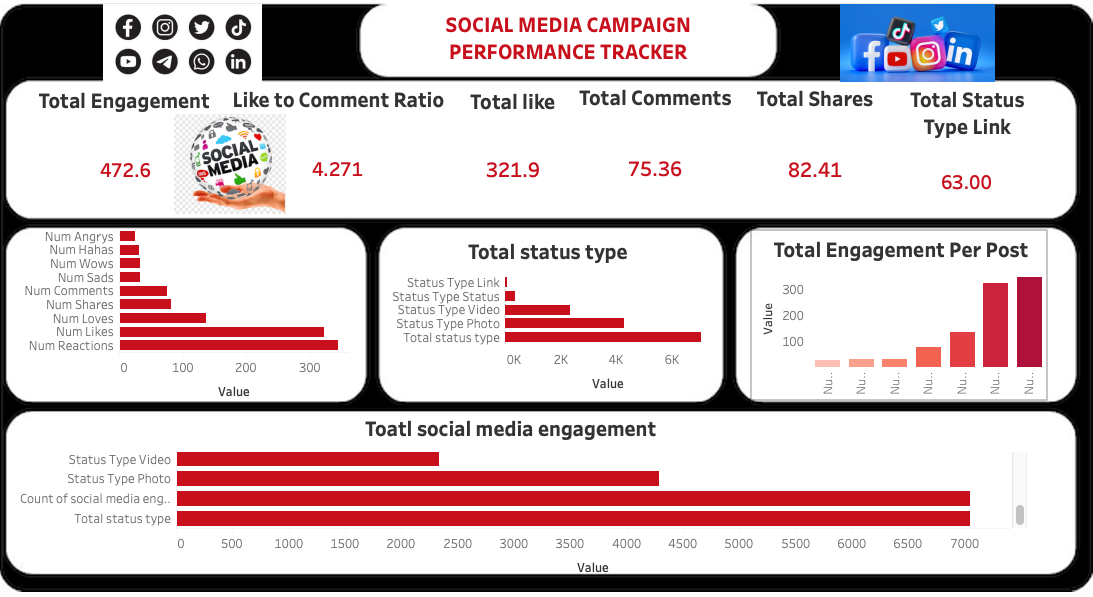

What the dashboard file says about the page in this screenshot:
{"tool":"tableau","page":{"name":"Dashboard 1","canvas":[1100,800],"ordinal":0},"visuals":[{"type":"image","param":"/Users/macbookdivytish/Desktop/Screenshot 2025-08-03 at 12.52.20 PM.png","box":[1.1,1,1093.4,701]},{"type":"image","param":"/Users/macbookdivytish/Desktop/Screenshot 2025-08-03 at 1.09.53 PM.png","box":[8,58,351,80]},{"type":"image","param":"/Users/macbookdivytish/Desktop/Screenshot 2025-08-03 at 1.10.11 PM.png","box":[743,58,351,78]},{"type":"text","box":[394,64,351,54]},{"type":"worksheet","title":"Total Comments","mark":"Automatic","box":[574,133,165,138]},{"type":"worksheet","title":"Total Shares","mark":"Automatic","box":[747,134,138,137]},{"type":"worksheet","title":"Like to Comment Ratio","mark":"Automatic","box":[224,135,231,133]},{"type":"worksheet","title":"Total Status Type Link","mark":"Automatic","box":[883,135,171,133]},{"type":"worksheet","title":"Total Engagement ","mark":"Automatic","box":[35,136,185,134]},{"type":"worksheet","title":"Total like","mark":"Automatic","box":[464,137,100,132]},{"type":"image","param":"/Users/macbookdivytish/Desktop/Screenshot 2025-08-03 at 1.10.55 PM.png","box":[143,168,177,100]},{"type":"worksheet","title":"Total Reaction","mark":"Automatic","box":[20,283,330,178]},{"type":"worksheet","title":" Total Engagement Per Post","mark":"Automatic","box":[753,285,294,168]},{"type":"worksheet","title":"Total status type","mark":"Automatic","box":[386,287,326,166]},{"type":"worksheet","title":"Toatl social media engagement ","mark":"Automatic","box":[17,464,1011,173]}]}

Visuals, with their boxes on the page's 1100x800 design canvas (x1, y1, x2, y2). These are canvas units, not pixel positions in the 1093x597 screenshot, which may show the page scaled, cropped or inside an application window:
image: box(1, 1, 1094, 702)
image: box(8, 58, 359, 138)
image: box(743, 58, 1094, 136)
text: box(394, 64, 745, 118)
"Total Comments" worksheet: box(574, 133, 739, 271)
"Total Shares" worksheet: box(747, 134, 885, 271)
"Like to Comment Ratio" worksheet: box(224, 135, 455, 268)
"Total Status Type Link" worksheet: box(883, 135, 1054, 268)
"Total Engagement " worksheet: box(35, 136, 220, 270)
"Total like" worksheet: box(464, 137, 564, 269)
image: box(143, 168, 320, 268)
"Total Reaction" worksheet: box(20, 283, 350, 461)
" Total Engagement Per Post" worksheet: box(753, 285, 1047, 453)
"Total status type" worksheet: box(386, 287, 712, 453)
"Toatl social media engagement " worksheet: box(17, 464, 1028, 637)
